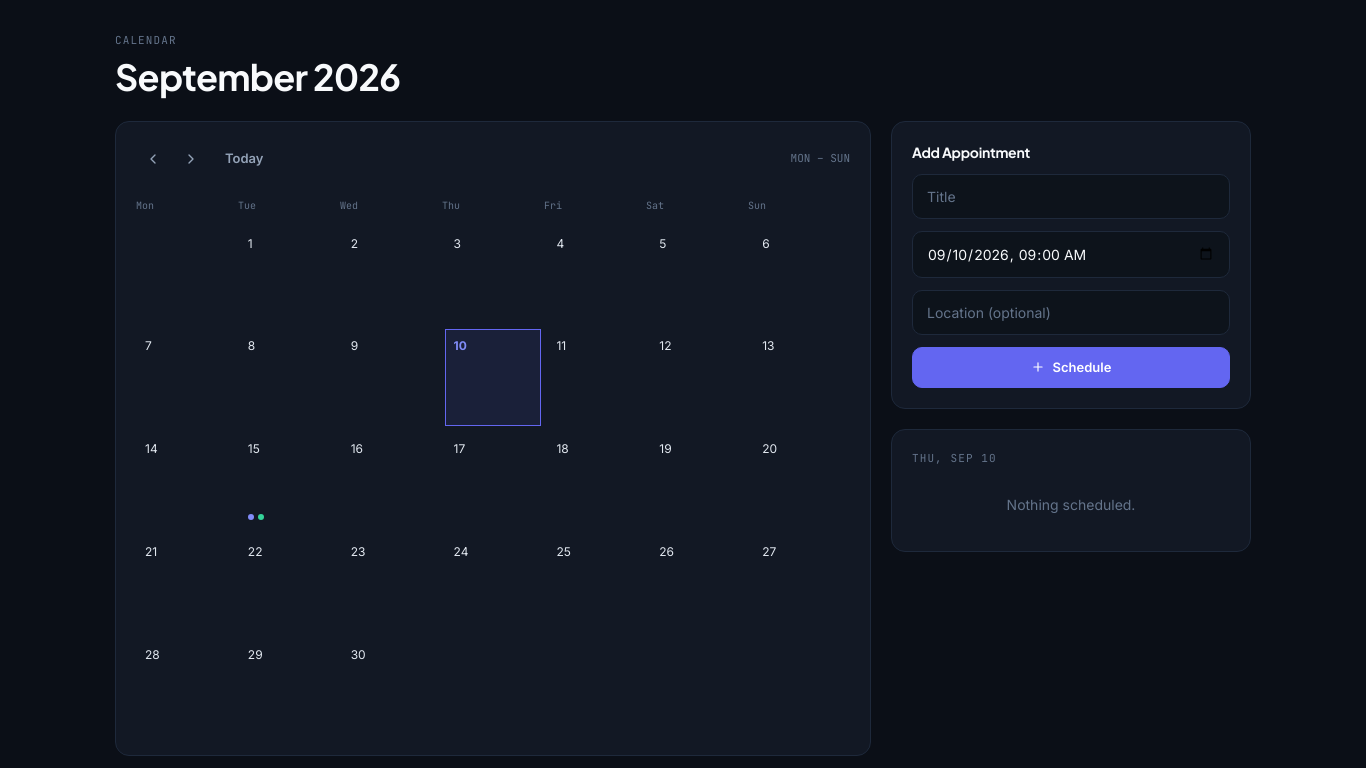
it: Calendar Page › selects a specific day to view scheduled events
Click the button with test id "cal-day-15".
click(287, 481)  # box [239,432,336,529]
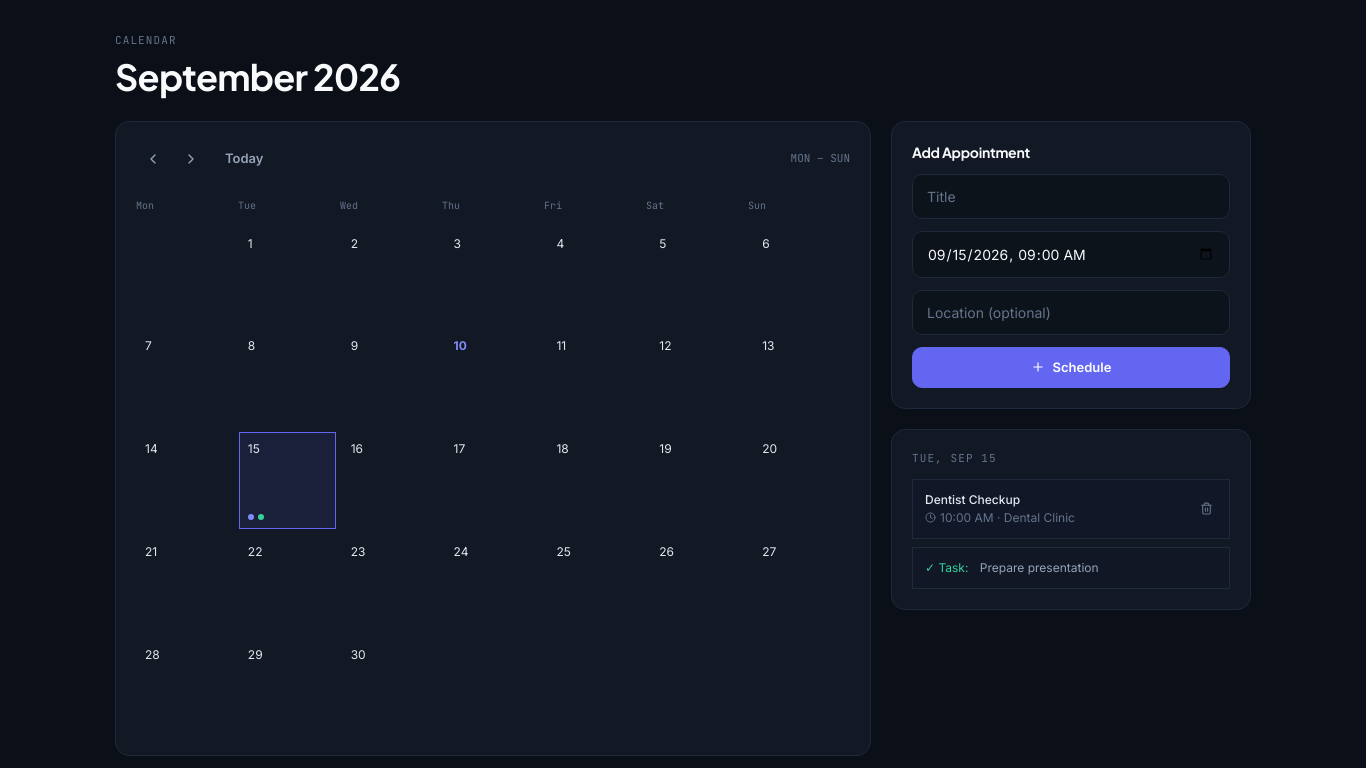
Result: the element with test id "selected-day-events" shows "Dentist Checkup" at [925,492,1020,506]
Result: the element with test id "selected-day-events" shows "Prepare presentation" at [980,560,1099,574]
